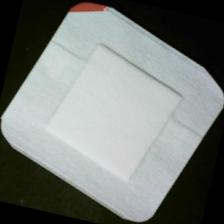Dressing: (1, 1, 224, 224)
Red_T: (57, 1, 119, 24)
